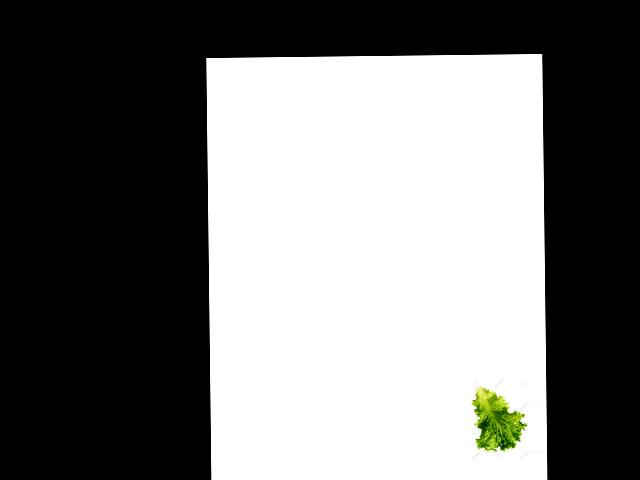lettuce: (474, 385, 526, 451)
